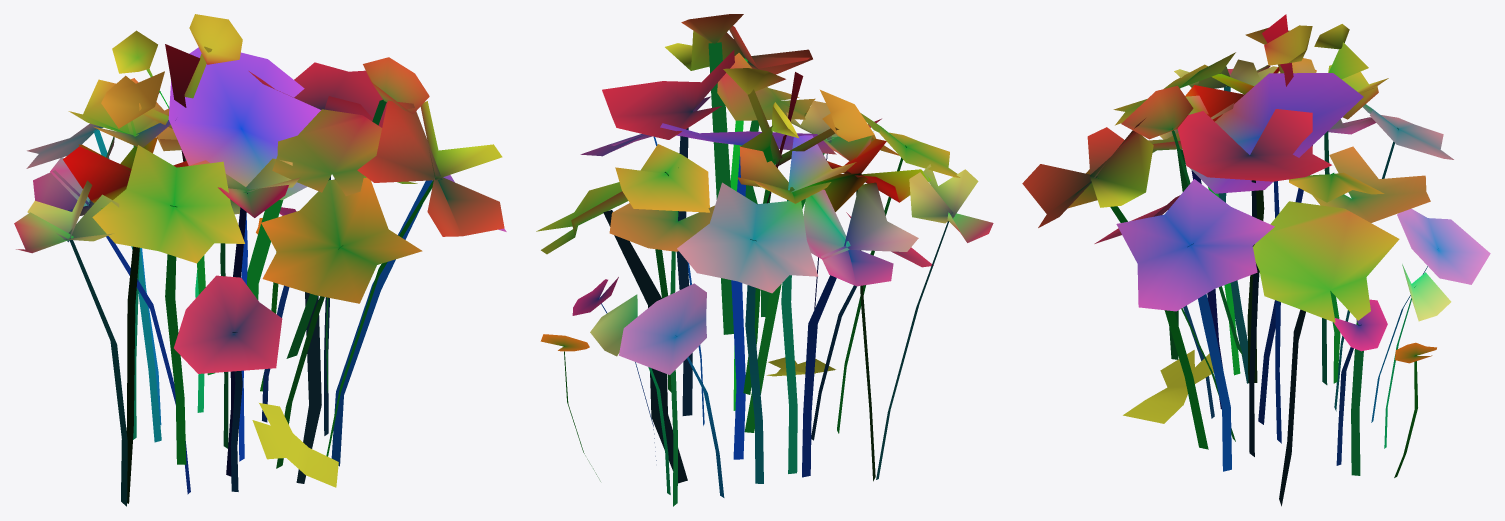
Rendered from Purple_Shamrock_rjrrH_Mid_rjrrH_VarA_LOD1.fbx.
The picture shows the model from 3 angles, left to right: view 1: azimuth 30°, elevation 25°; view 2: azimuth 150°, elevation 25°; view 3: azimuth 270°, elevation 25°; orthographic projection. The views are drawn at different scales.
Visible parts, largest first — view 1: _64a3_VarA_LOD2; view 2: _64a3_VarA_LOD2; view 3: _64a3_VarA_LOD2.
Boxes of the visible parts, x1,y1,x2,y2 form: _64a3_VarA_LOD2: [14, 14, 506, 506]; _64a3_VarA_LOD2: [536, 14, 993, 506]; _64a3_VarA_LOD2: [1022, 14, 1490, 506].
Bounding box in the file's own units: 41.5 × 42.86 × 41.39.
